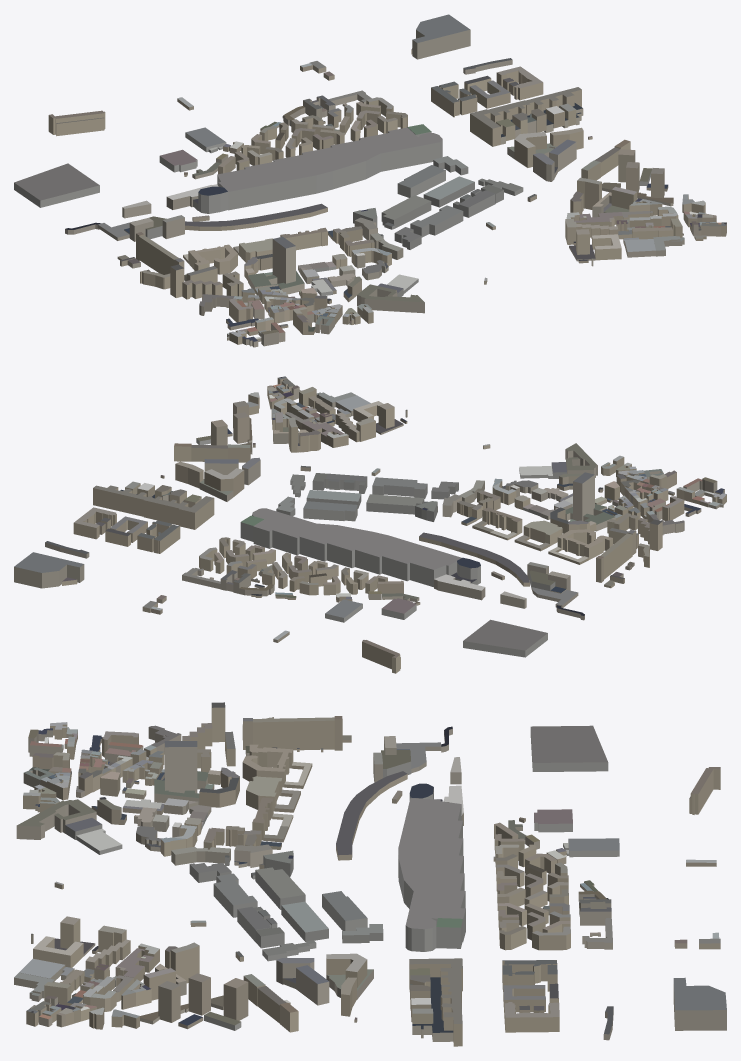
The picture shows the model from 3 angles, top to bottom: view 1: azimuth 30°, elevation 25°; view 2: azimuth 150°, elevation 25°; view 3: azimuth 270°, elevation 25°; orthographic projection. The views are drawn at different scales.
Visible parts, largest first — view 1: tuile; view 2: tuile; view 3: tuile.
Boxes of the visible parts, <box> form: tuile: <box>14,14,726,347</box>; tuile: <box>14,376,726,673</box>; tuile: <box>14,702,726,1046</box>.
Size of the model in its own units: 1082 by 91.63 by 1041.
